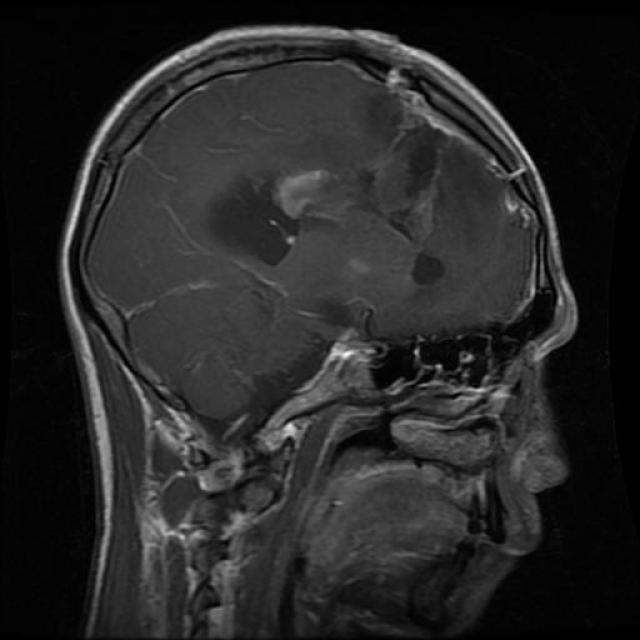glioma: (274, 163, 333, 212)
